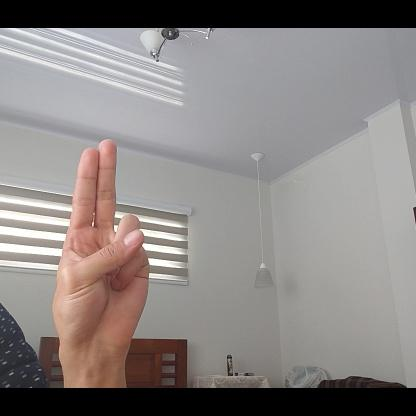U: (51, 138, 152, 363)
